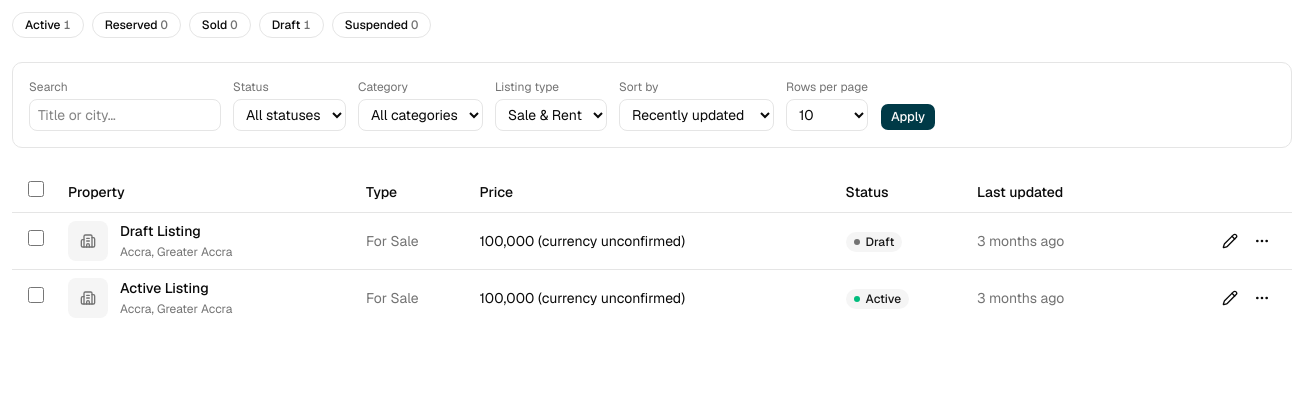
Scenario: My Properties (ListingsView, all flows composed) › bulk-updates the selected rows and clears the selection on success
This screenshot has width=1292, height=410.
expect the text "Draft Listing" is shown: met, box [120, 222, 201, 240]
Step 1. Click the checkbox named "Select Draft Listing" → (36, 238), box [28, 230, 44, 246]
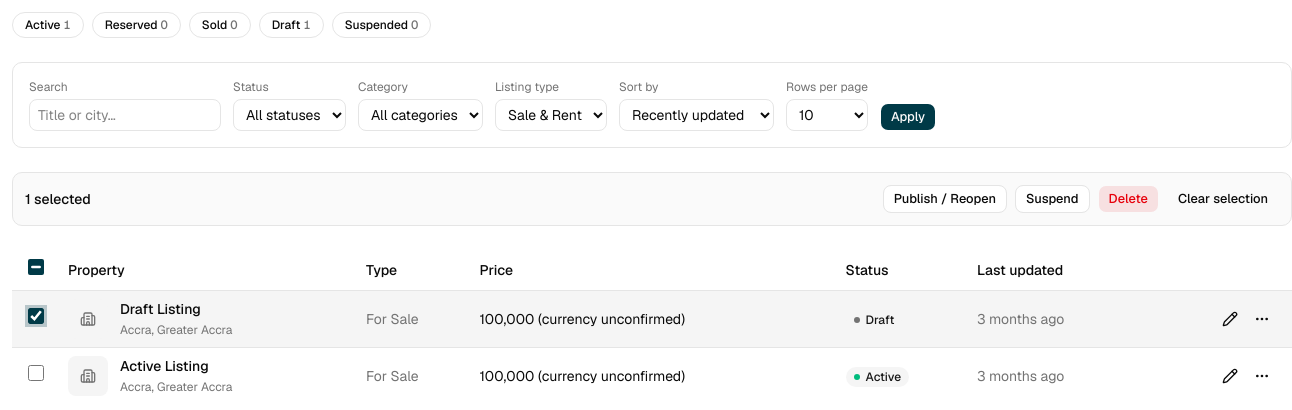
expect the text "1 selected" is shown: met, box [25, 189, 91, 209]
Step 2. Click the button "Publish / Reopen" → (945, 199), box [883, 185, 1007, 213]
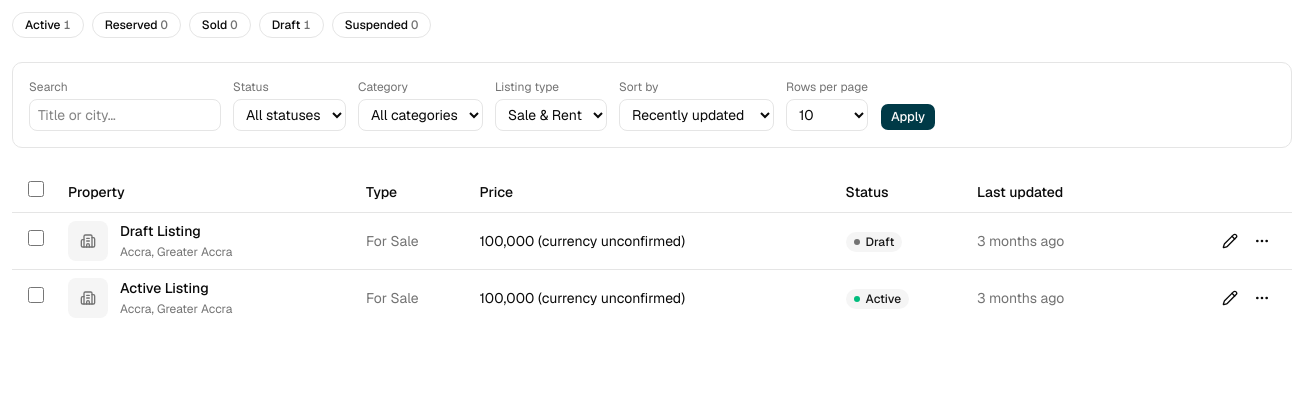
expect the text "1 selected" is gone: met
